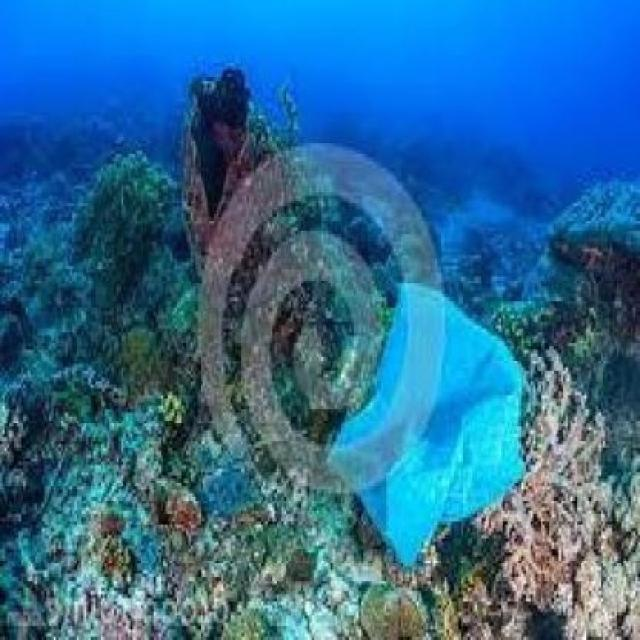pbag: (325, 283, 524, 574)
